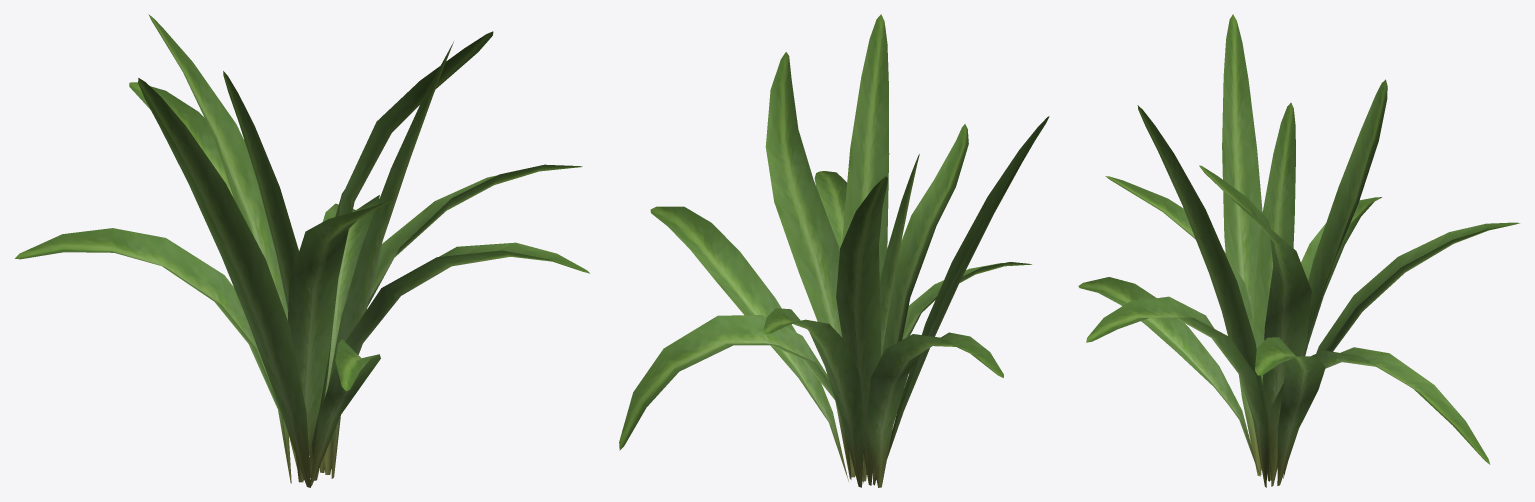
The model's file is D_Plant_005.fbx.
The picture shows the model from 3 angles, left to right: view 1: azimuth 30°, elevation 25°; view 2: azimuth 150°, elevation 25°; view 3: azimuth 270°, elevation 25°; orthographic projection. The views are drawn at different scales.
Parts seen in each view (by area): view 1: D_Plant_005; view 2: D_Plant_005; view 3: D_Plant_005.
Boxes of the visible parts, left/top/right/bottom form: D_Plant_005: left=15, top=14, right=589, bottom=487; D_Plant_005: left=619, top=14, right=1049, bottom=487; D_Plant_005: left=1078, top=14, right=1519, bottom=487.
Size of the model in its own units: 0.3232 by 0.3019 by 0.3025.
Materials: 1 (1 with a texture image).
